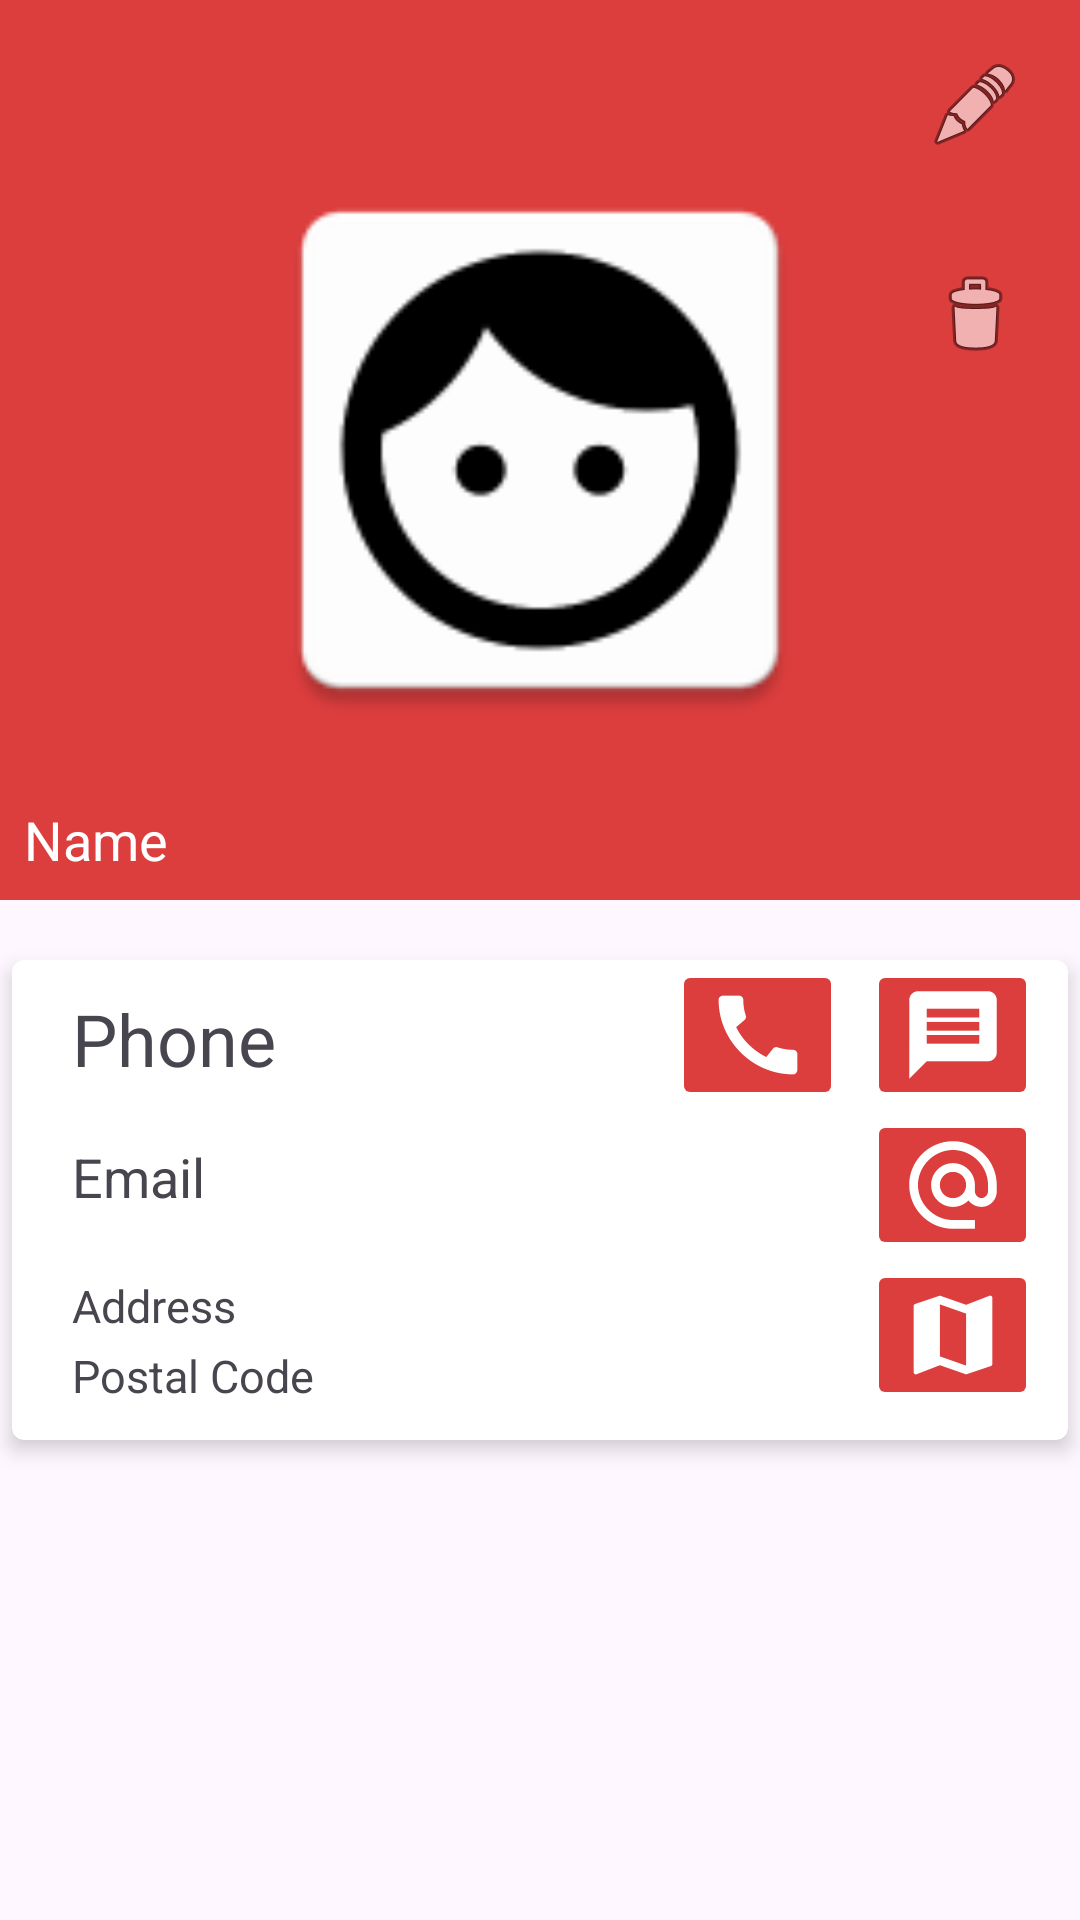

Where to tap for icons on this 1080×1920 app screen, as (x,y):
Address: (952,1335)
Call: (757,1035)
Delete: (975,313)
Edit: (974,104)
Email: (952,1185)
message: (952,1035)
